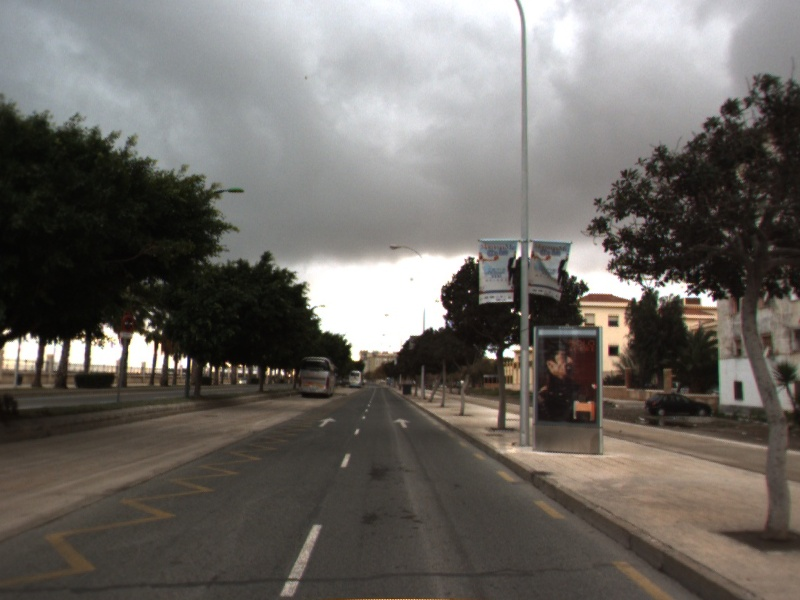STRAIGHT: (391, 416, 414, 430), (316, 416, 338, 429)
